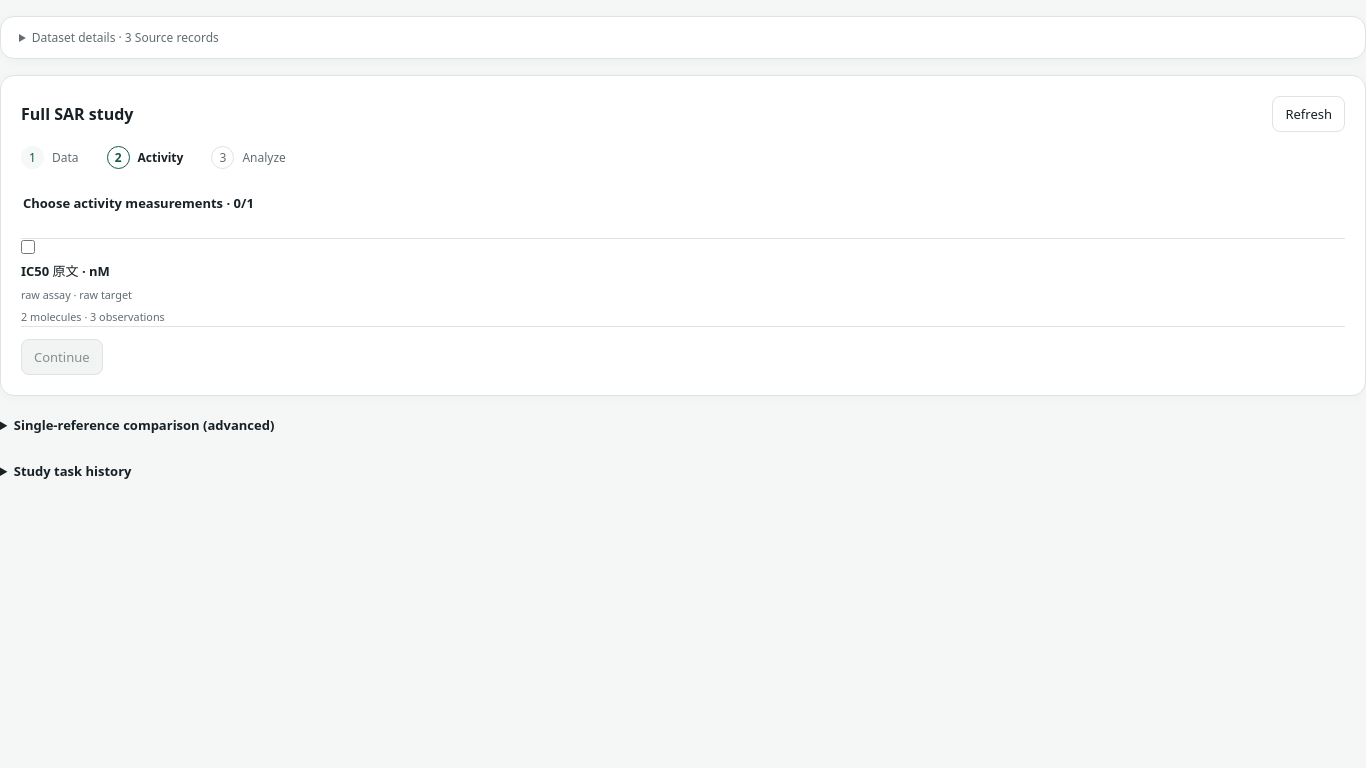
Test: all-row dataset presentation › shows original-record and merged-row counts separately without guessing input counts
Click the heading "Dataset details · 3 Source records" at (125, 38), box [32, 29, 219, 46]
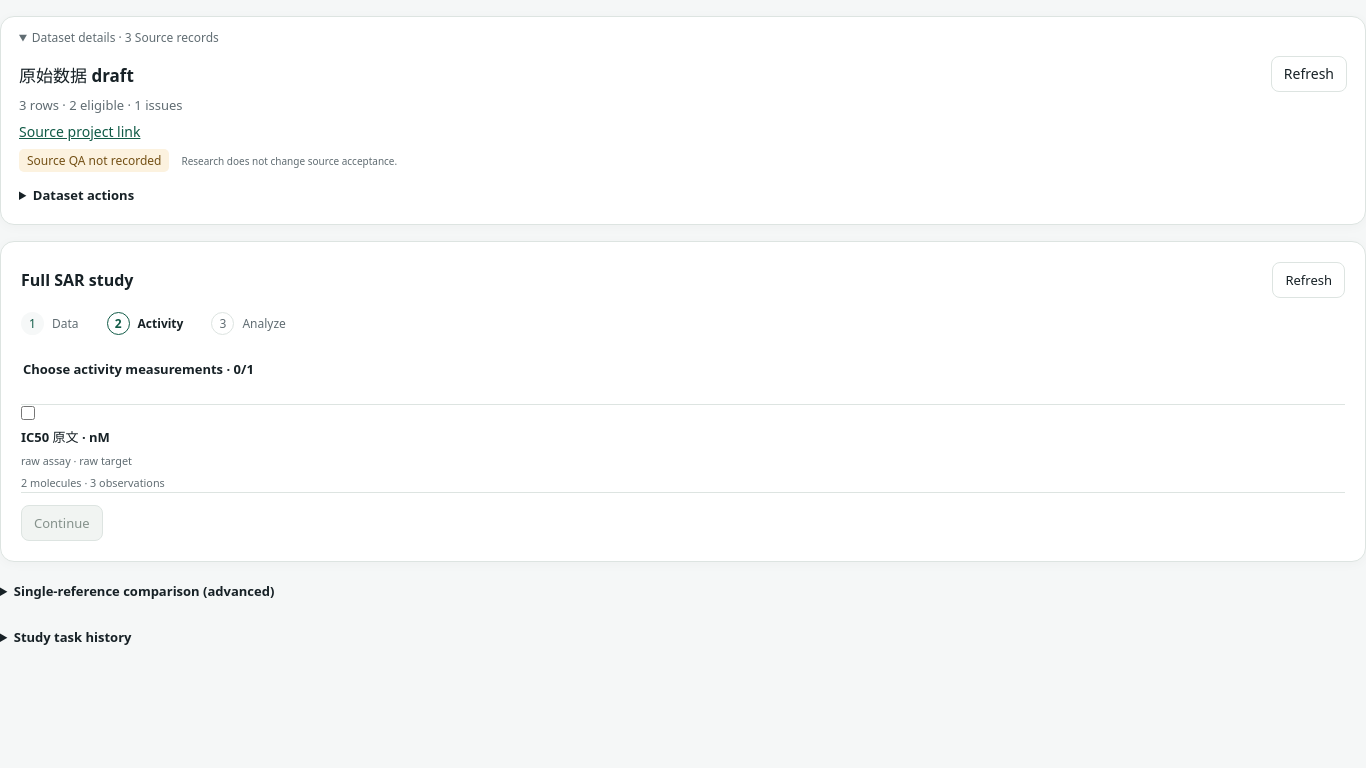
Click the heading "Dataset actions" at (83, 195), box [33, 186, 134, 204]
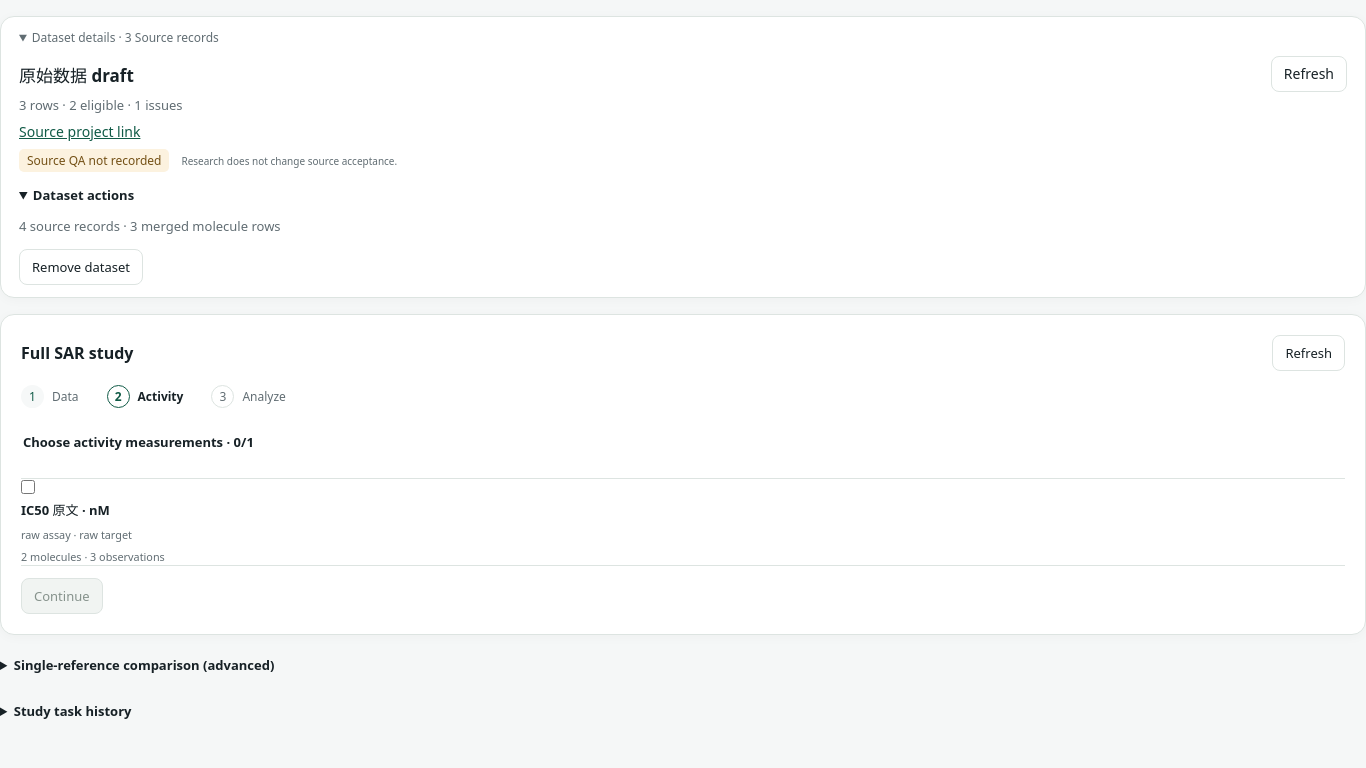
Expected: the text "3 rows · 2 eligible · 1 issues" is shown, [19, 96, 183, 114]
Expected: the text "4 source records · 3 merged molecule rows" is shown, [19, 217, 281, 235]
Click the heading "Single-reference comparison (advanced)" at (144, 665), box [14, 656, 274, 674]
(page scrolled)
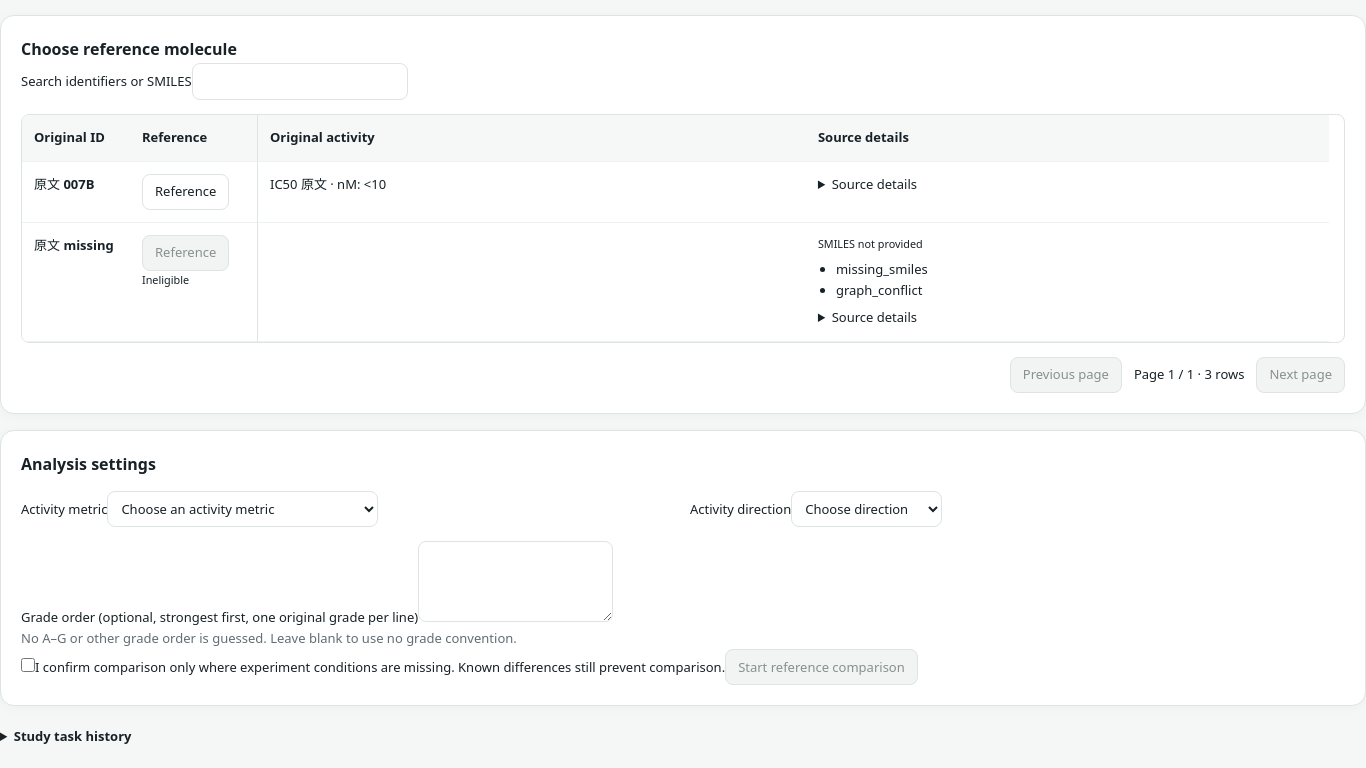
Expected: the button "Start reference comparison" is disabled, [725, 650, 918, 686]
